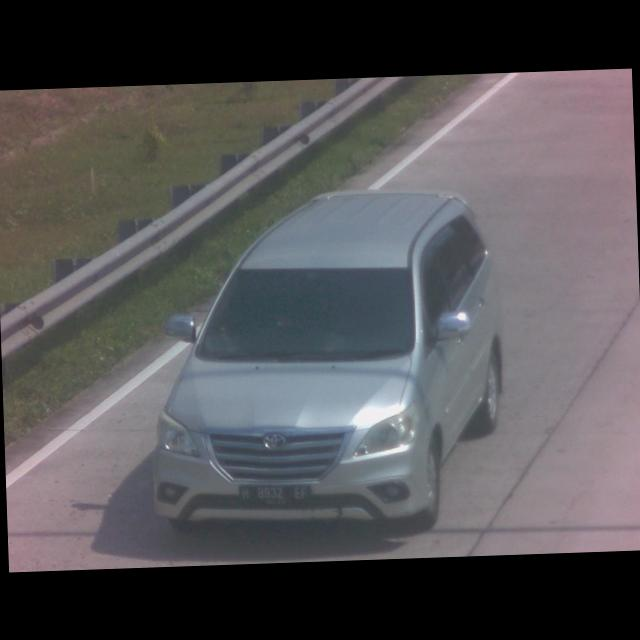plate: (236, 481, 316, 508)
